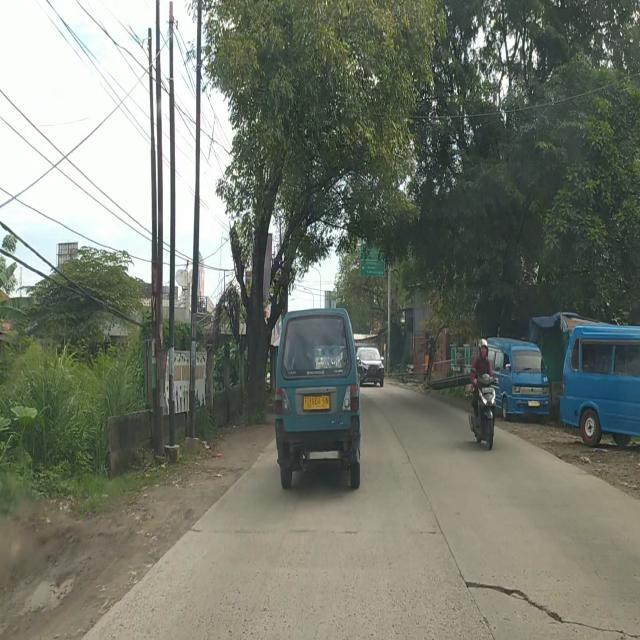Sewer Cover: (383, 409, 495, 640), (456, 566, 639, 640), (187, 520, 452, 545)
